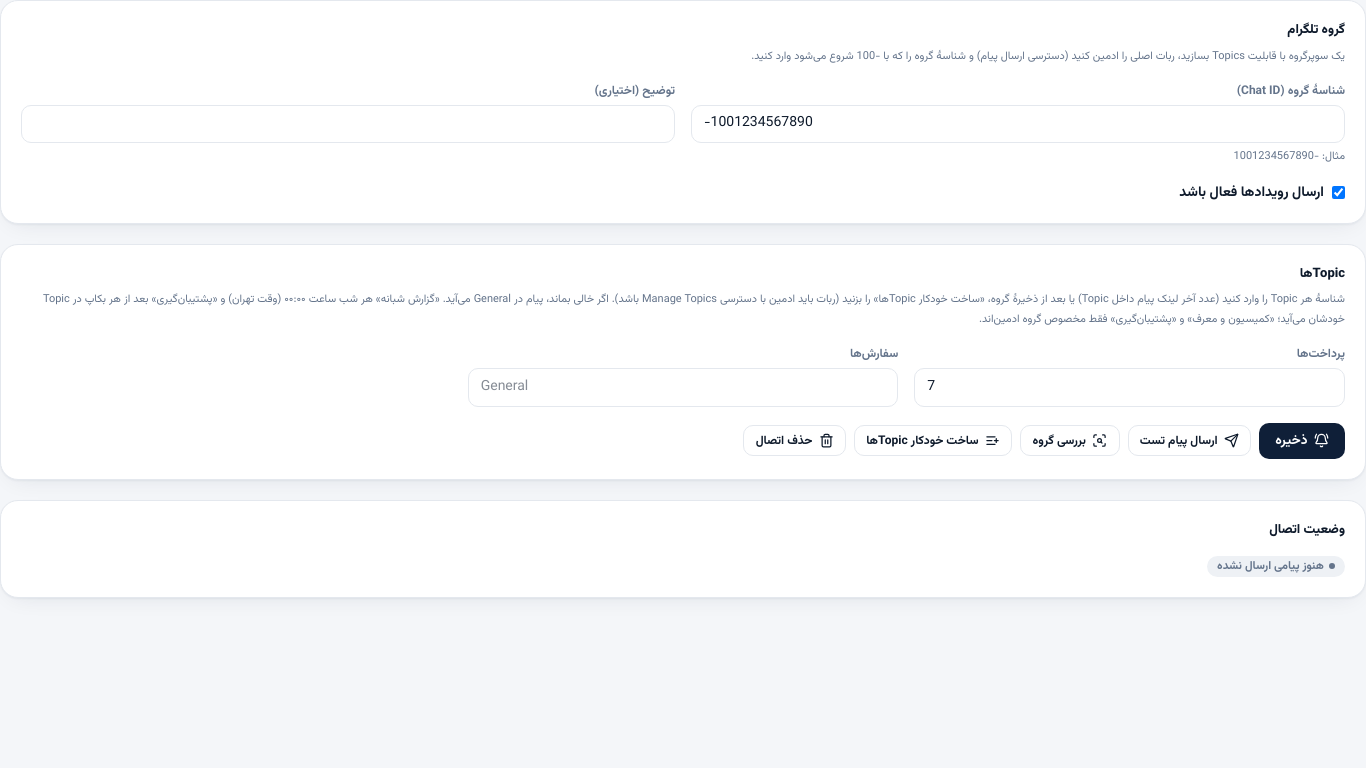
EventCenterView › checks the group and creates missing Topics through the provision endpoint
This screenshot has width=1366, height=768.
expect the field showing "-1001234567890" is shown: met, box [691, 104, 1345, 143]
Click the button "بررسی گروه": {"x": 1070, "y": 441} [1020, 425, 1120, 456]
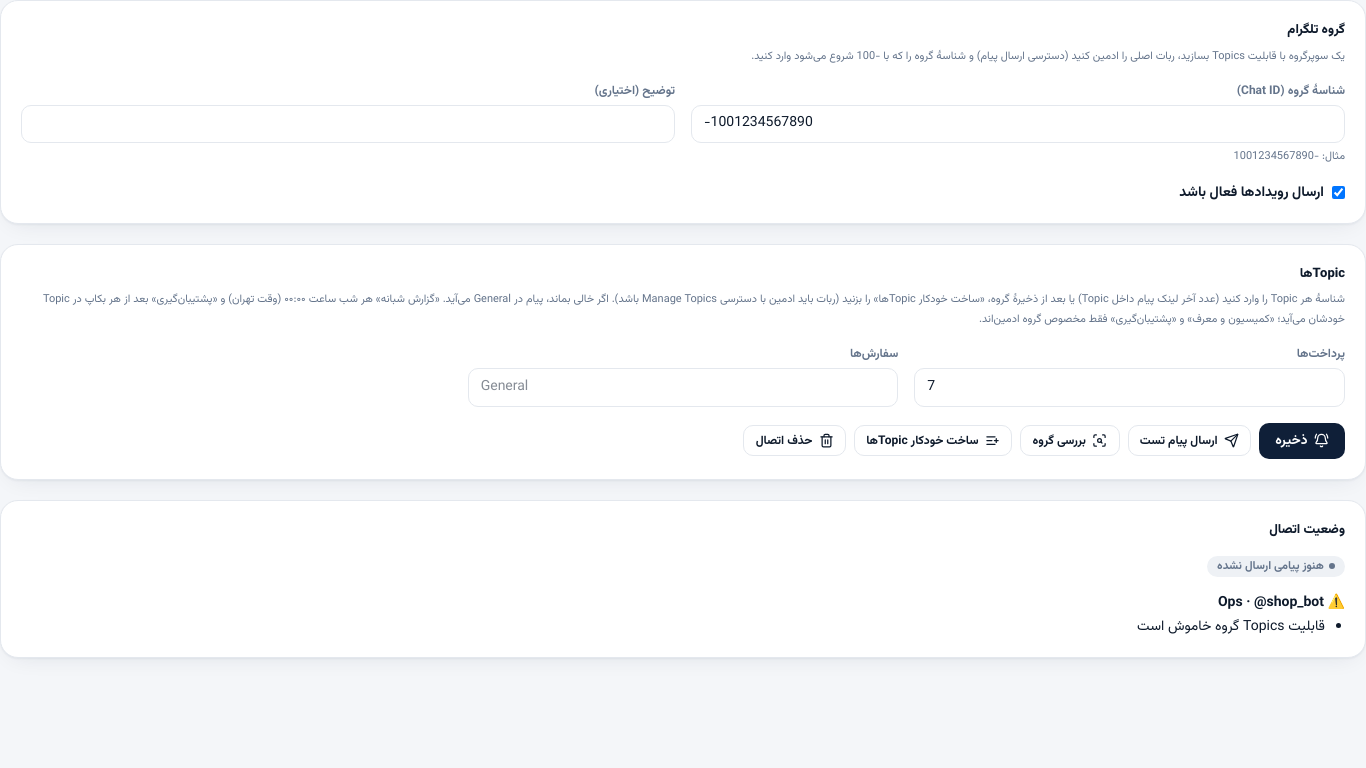
expect the list item "قابلیت Topics گروه خاموش است" is shown: met, box [1137, 616, 1325, 638]
Click the button "ساخت خودکار Topicها": {"x": 933, "y": 441} [854, 425, 1012, 456]
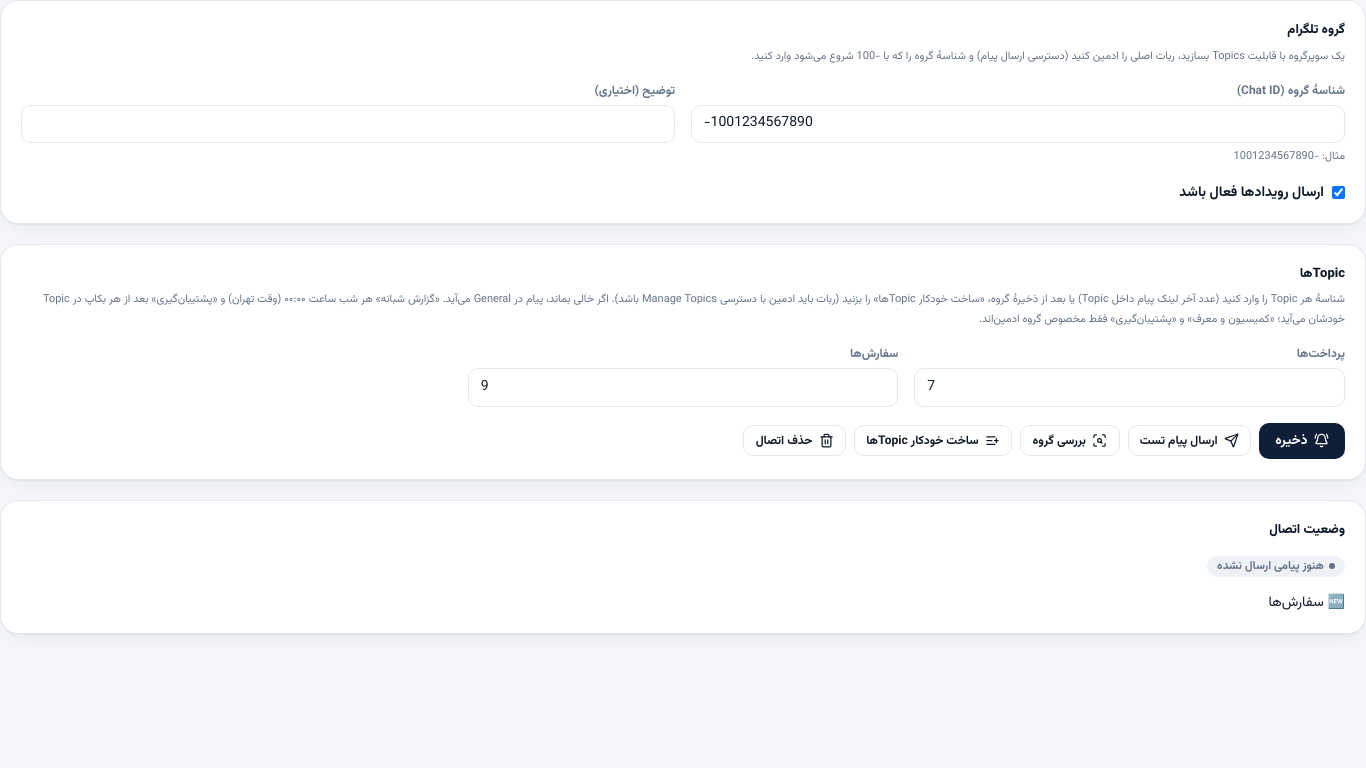
expect the field showing "9" is shown: met, box [468, 368, 898, 407]
